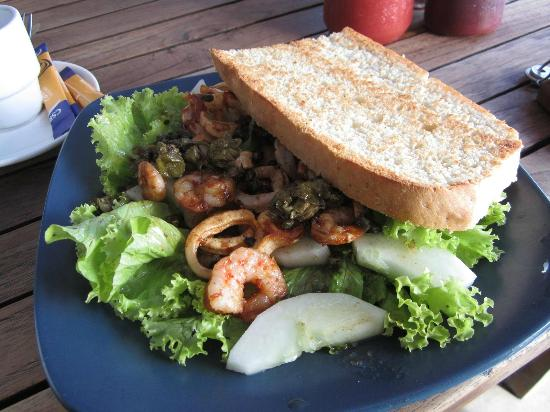chopped lettuce: (64, 206, 222, 358), (351, 221, 510, 342), (87, 96, 192, 168)
slice of bread: (217, 32, 518, 214)
